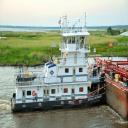tugboat: (11, 18, 107, 115)
